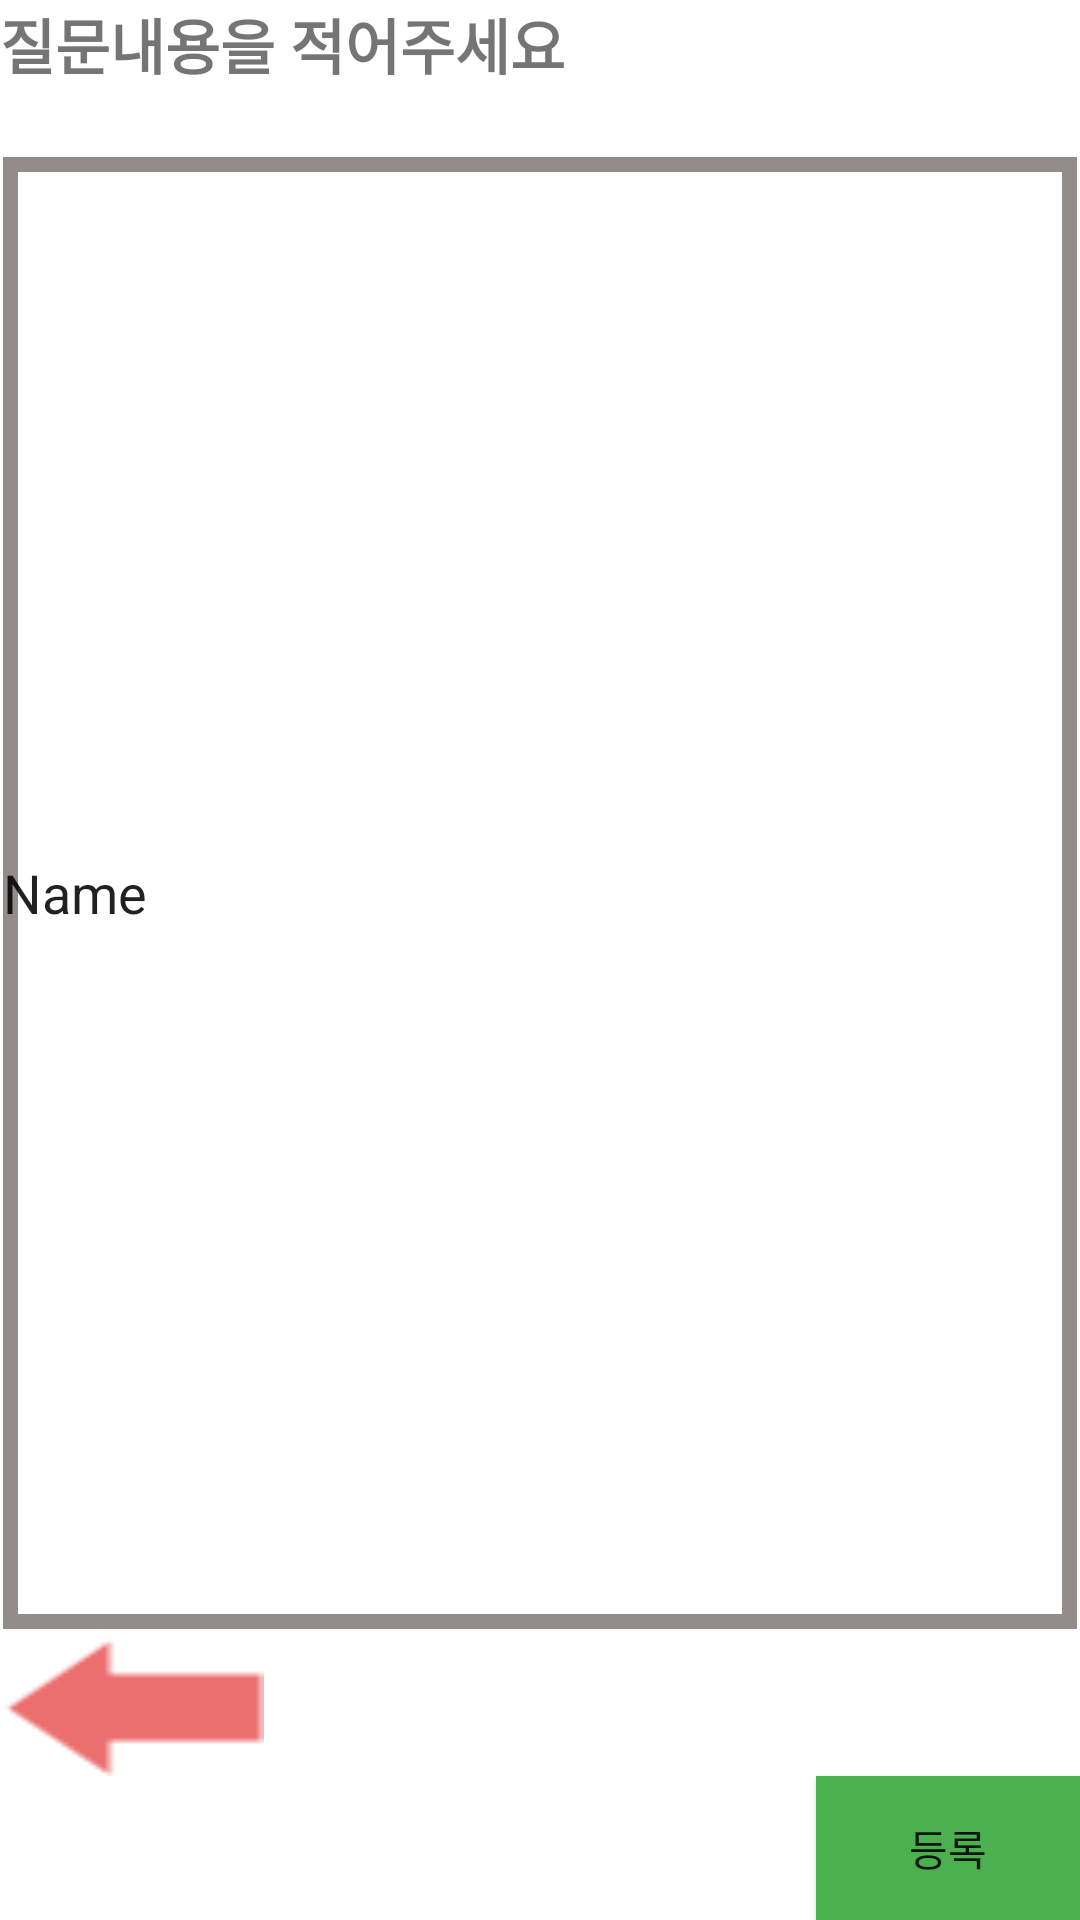

Locate icon controls on the screen. Image size 1080x1920, boxes as (x1, y1, x2, y2).
before: (7, 1642, 264, 1776)
